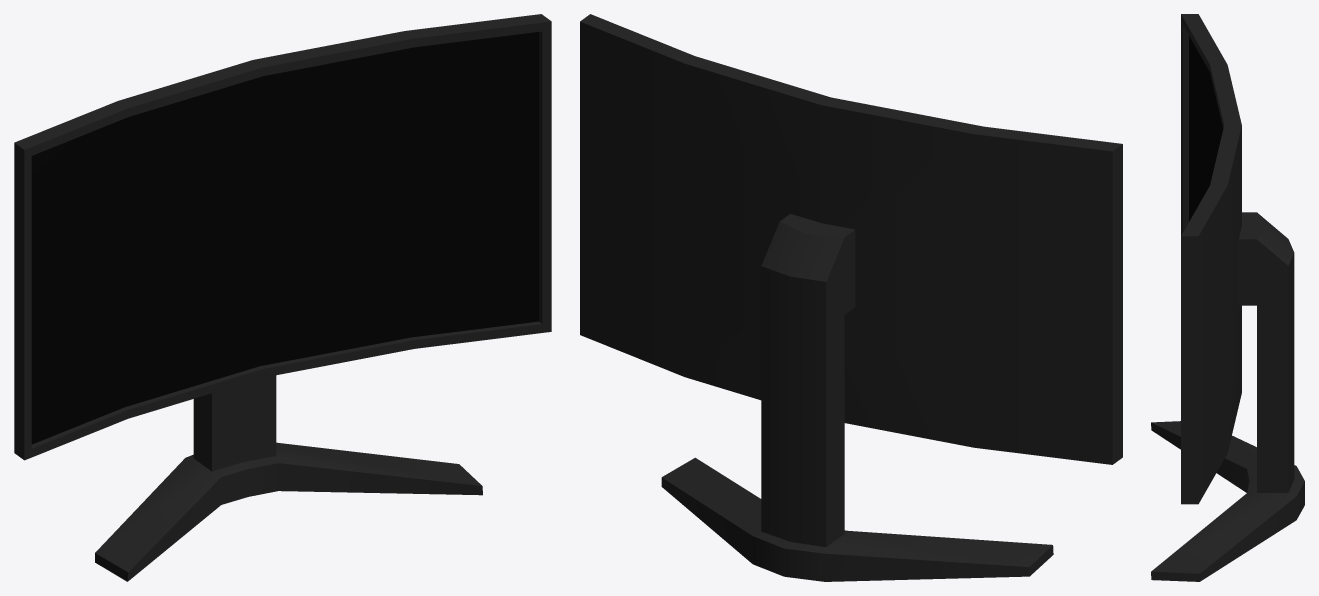
Rendered from monitorOFF.glb.
3 renders of one model, left to right at view 1: azimuth 30°, elevation 25°; view 2: azimuth 150°, elevation 25°; view 3: azimuth 270°, elevation 25°, orthographic. The views are drawn at different scales.
Parts seen in each view (by area): view 1: MontiorOFF; view 2: MontiorOFF; view 3: MontiorOFF.
Part boxes in pixels (x1,y1,x2,y2): MontiorOFF: (14, 14, 551, 581); MontiorOFF: (580, 14, 1122, 581); MontiorOFF: (1151, 14, 1304, 581).
Bounding box in the file's own units: 0.7717 × 0.6157 × 0.226.
Materials: 1 (1 with a texture image).
